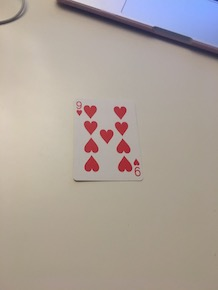NineOfHearts: (67, 90, 147, 186)
